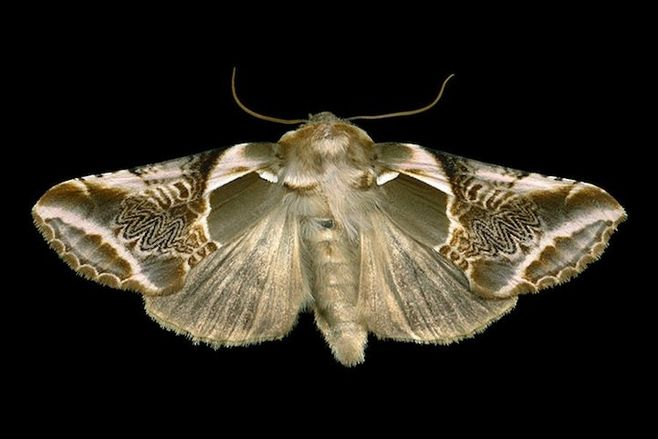feie: (33, 107, 622, 352)
